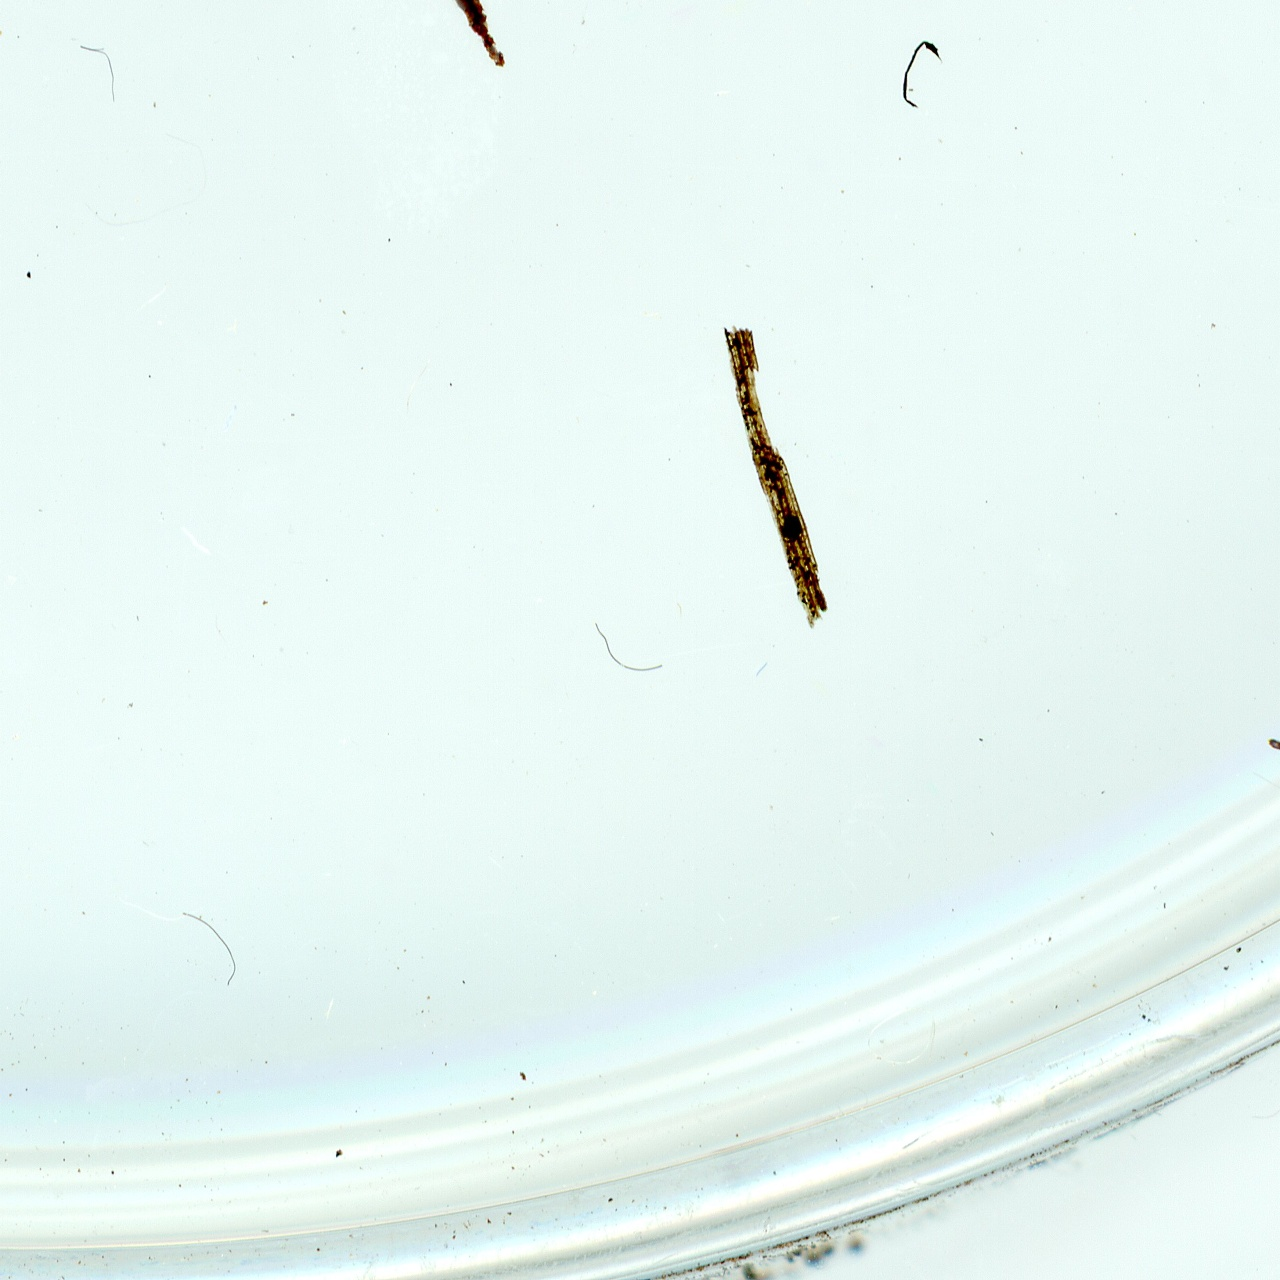arthropod: (1261, 730, 1280, 769)
